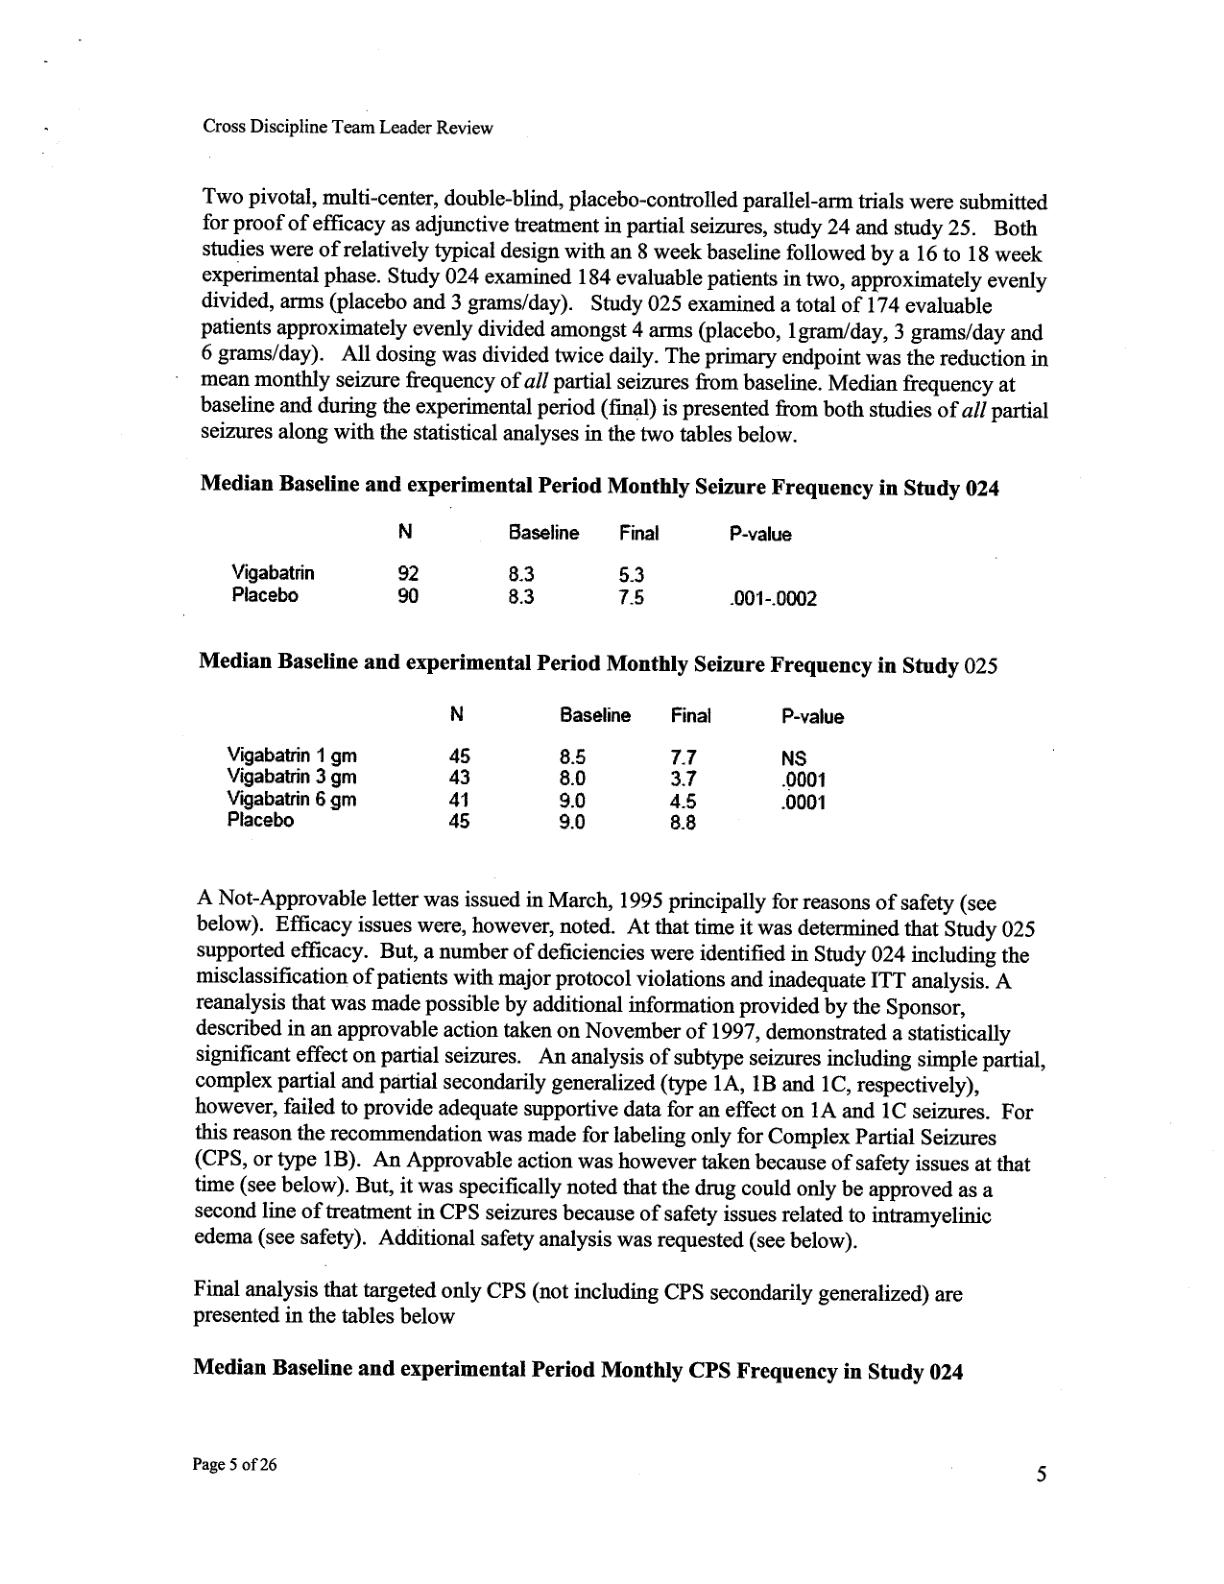nolines: (226, 705, 847, 831), (231, 521, 820, 608)
